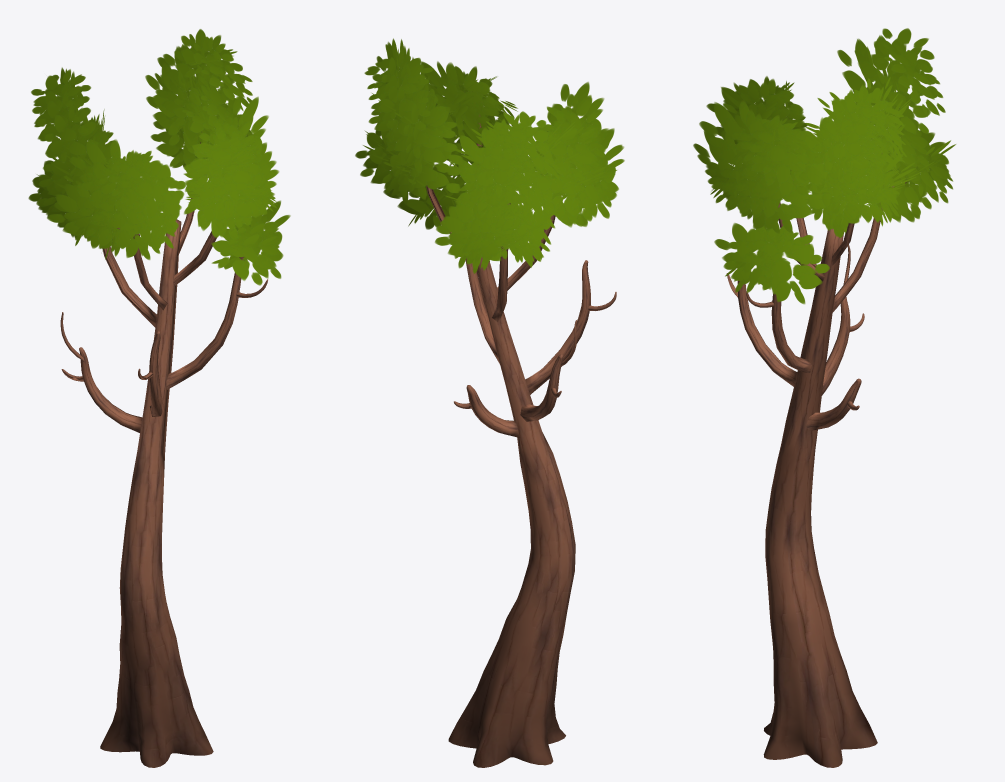
The model's file is tree-oak-b.glb.
3 views of the same model, side by side, from view 1: azimuth 30°, elevation 25°; view 2: azimuth 150°, elevation 25°; view 3: azimuth 270°, elevation 25° (orthographic). The views are drawn at different scales.
Parts seen in each view (by area): view 1: CommonTree_4; view 2: CommonTree_4; view 3: CommonTree_4.
Boxes of the visible parts, x1,y1,x2,y2 form: CommonTree_4: [28, 29, 290, 767]; CommonTree_4: [355, 38, 624, 767]; CommonTree_4: [693, 28, 955, 767].
Bounding box in the file's own units: 3.83 × 9.44 × 3.76.
Materials: 2 (2 with a texture image).
